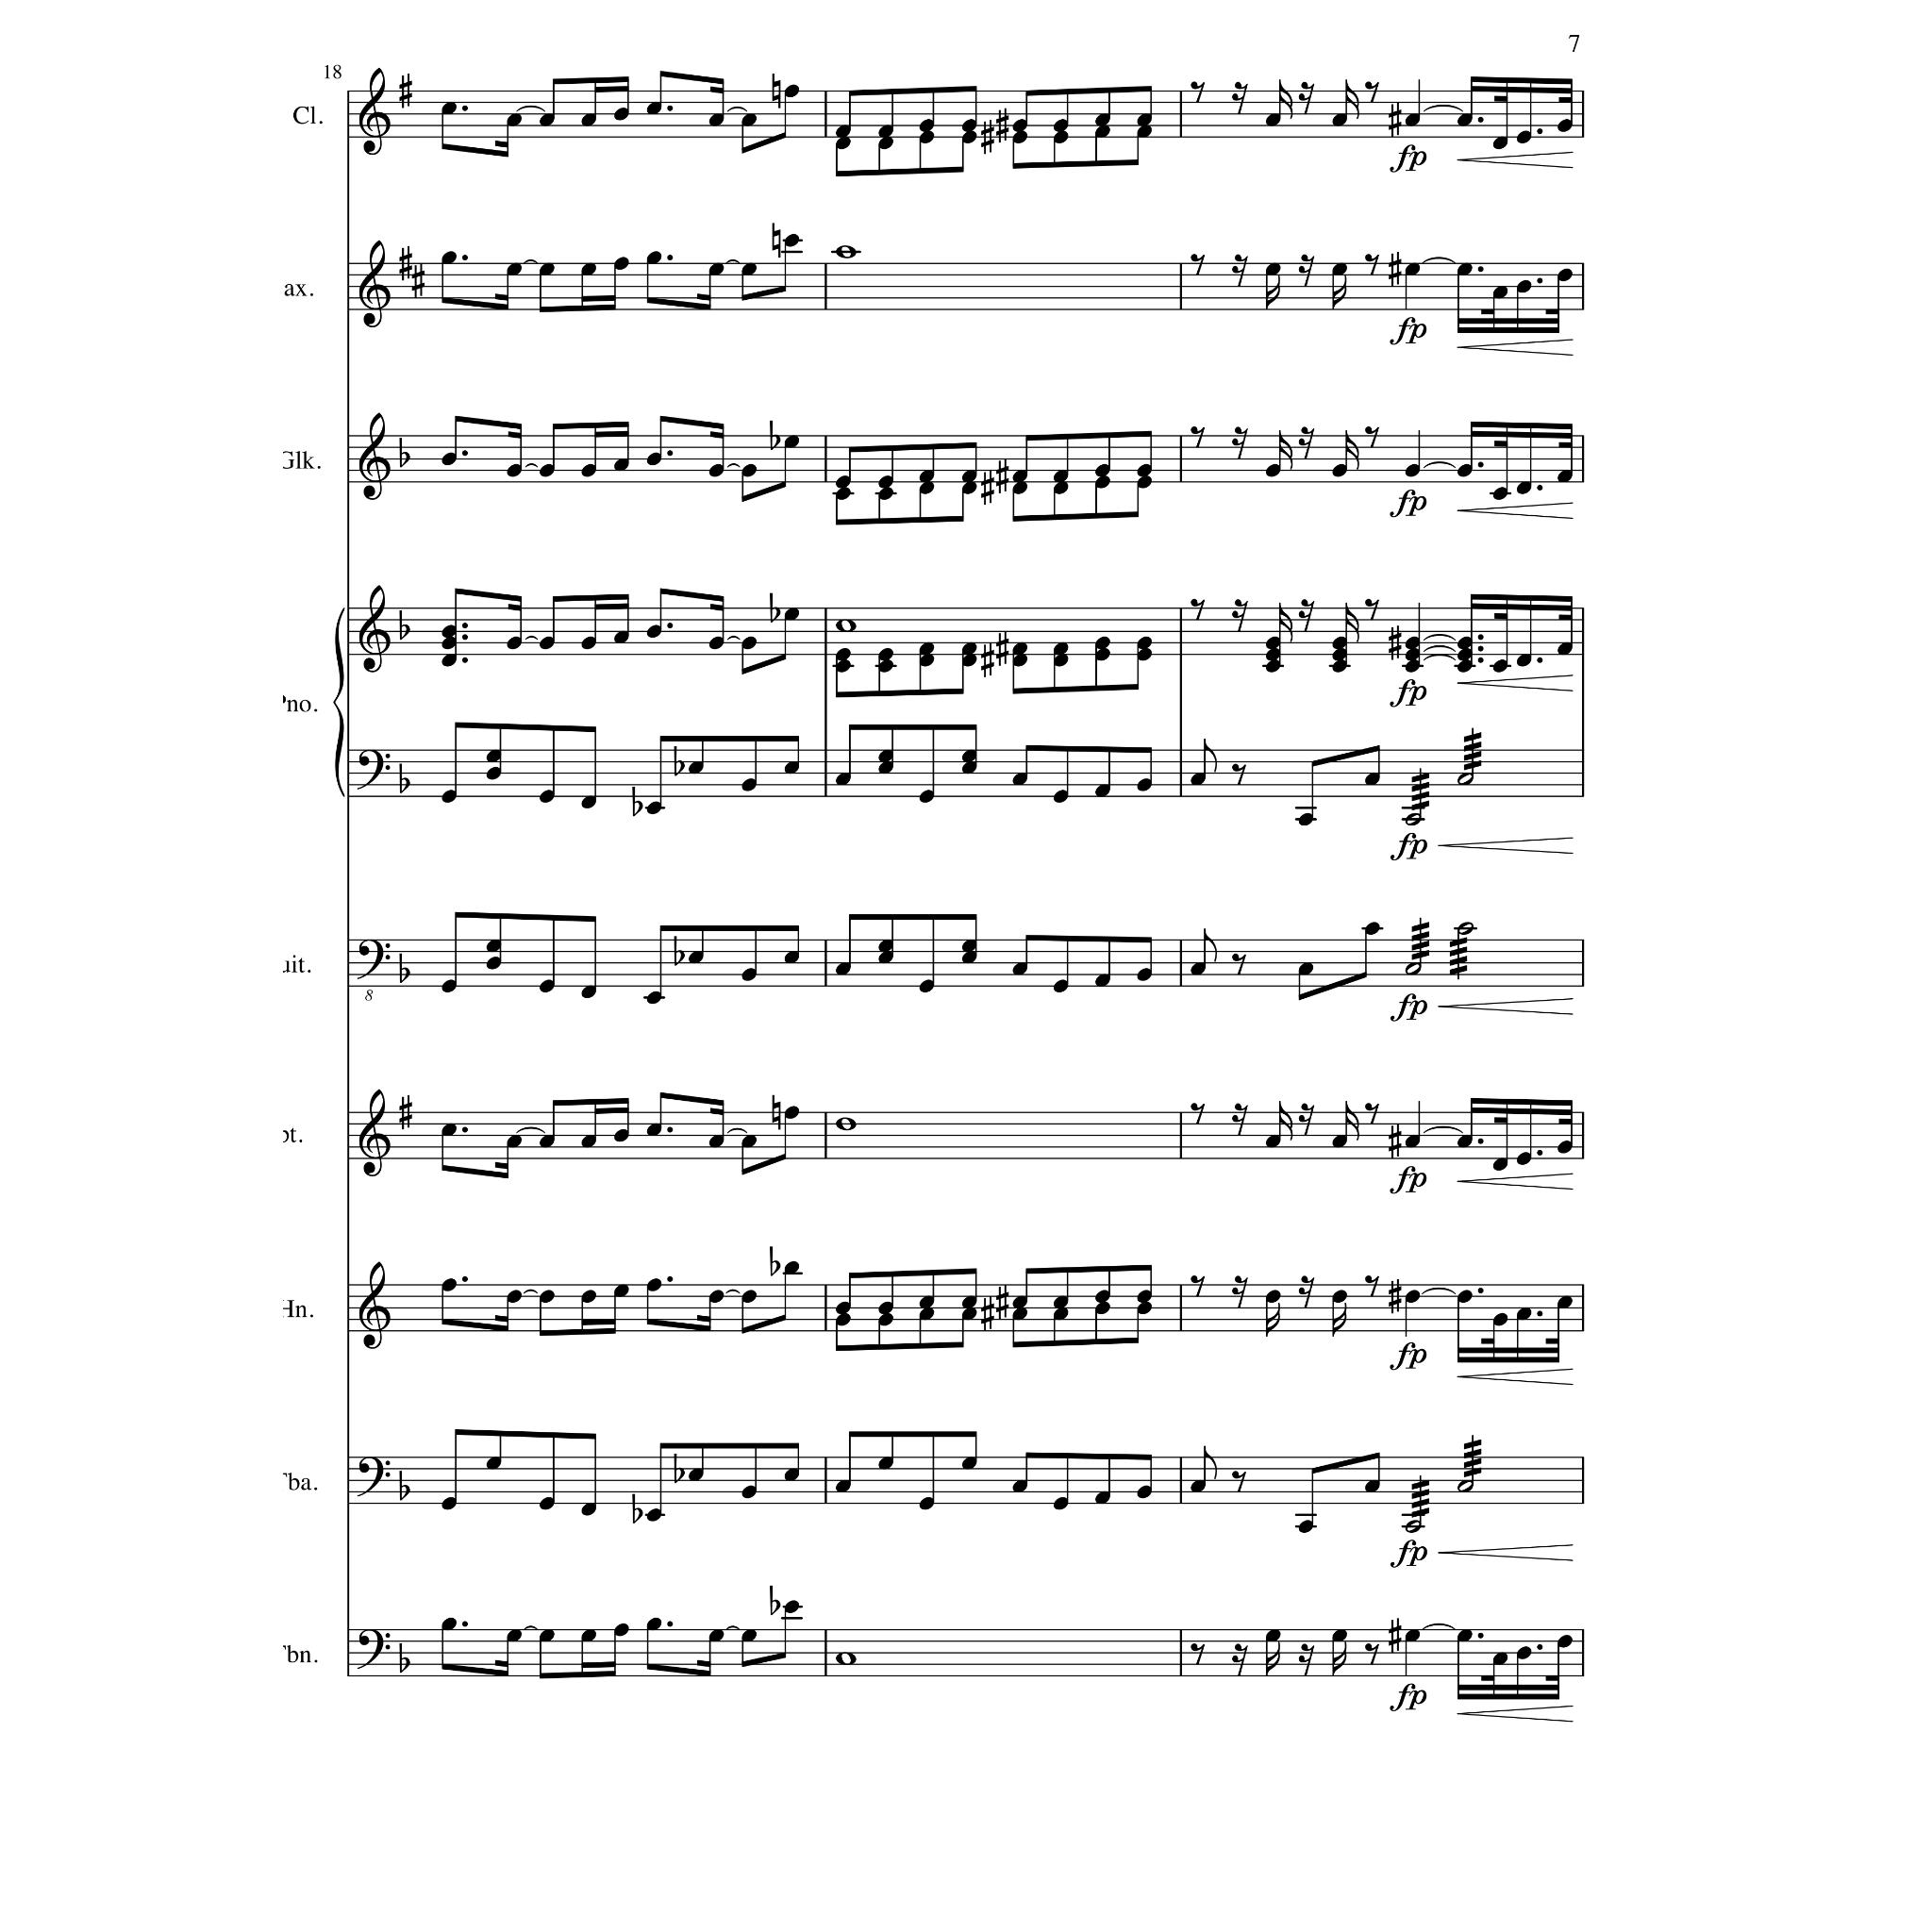brace: (333, 607, 345, 798)
fClef: (357, 1456, 391, 1497), (357, 1629, 391, 1670), (357, 939, 391, 980), (357, 750, 391, 791)
flag16thDown: (1332, 274, 1346, 310), (1267, 274, 1281, 310), (1267, 1302, 1281, 1338), (1332, 1302, 1346, 1338), (1267, 1642, 1281, 1675), (1332, 1642, 1346, 1675)
flag16thUp: (1346, 80, 1361, 120), (1346, 430, 1361, 471), (1346, 602, 1361, 642), (1346, 1102, 1361, 1141), (1279, 80, 1292, 120), (1279, 602, 1292, 642), (1279, 430, 1292, 471), (1279, 1102, 1292, 1141)
flag8thUp: (1203, 738, 1217, 773), (1203, 1445, 1217, 1481), (1203, 929, 1217, 962)
gClef: (359, 239, 391, 329), (359, 1261, 391, 1350), (359, 1088, 391, 1177), (359, 67, 391, 156), (359, 586, 391, 674), (359, 412, 391, 501)
noteheadBlack: (686, 761, 704, 775), (686, 950, 704, 964), (1332, 1134, 1348, 1148), (1332, 464, 1348, 478), (1332, 648, 1348, 662), (1332, 637, 1348, 651), (1265, 648, 1281, 662), (1265, 637, 1281, 651), (1265, 1134, 1281, 1148), (1265, 464, 1281, 478), (1093, 476, 1109, 490), (1093, 784, 1109, 798), (1093, 637, 1109, 651), (1093, 648, 1109, 662), (1093, 464, 1109, 478), (1053, 1497, 1069, 1511), (1053, 1295, 1069, 1309), (1053, 978, 1069, 993), (1053, 789, 1069, 803), (1053, 642, 1069, 656), (1053, 131, 1069, 145), (1053, 119, 1069, 133), (1136, 476, 1152, 490), (1136, 968, 1152, 982), (1136, 778, 1152, 793), (1136, 637, 1152, 651), (1136, 648, 1152, 662), (1136, 464, 1152, 478), (1557, 1635, 1573, 1649), (1557, 1295, 1573, 1309), (1557, 642, 1573, 656), (1557, 269, 1573, 283), (1557, 119, 1573, 133), (1516, 1645, 1532, 1660), (1516, 1152, 1532, 1166), (1516, 280, 1532, 294), (1516, 131, 1532, 145), (1405, 637, 1421, 651), (1405, 1134, 1421, 1148), (1405, 648, 1421, 662), (1405, 464, 1421, 478), (1491, 1651, 1507, 1665), (1491, 1313, 1507, 1327), (1491, 1157, 1507, 1171), (1491, 487, 1507, 501), (1491, 136, 1507, 150), (1458, 648, 1474, 662), (1458, 464, 1474, 478), (1458, 637, 1474, 651), (1458, 1134, 1474, 1148), (614, 458, 630, 472), (614, 1283, 630, 1297), (614, 1129, 630, 1143), (580, 1502, 596, 1516), (580, 1134, 596, 1148), (580, 985, 596, 1000), (580, 637, 596, 651), (580, 464, 596, 478), (708, 1134, 724, 1148), (708, 637, 724, 651), (708, 464, 724, 478), (646, 1617, 662, 1631), (646, 1277, 662, 1292), (646, 1123, 662, 1138), (646, 991, 662, 1005), (646, 801, 662, 816), (646, 625, 662, 639), (441, 1617, 456, 1631), (441, 1497, 456, 1511), (441, 1277, 456, 1292), (441, 1123, 456, 1138), (441, 978, 456, 993), (441, 789, 456, 803), (441, 625, 456, 639), (441, 637, 456, 651), (506, 1134, 522, 1148), (506, 637, 522, 651), (506, 464, 522, 478), (538, 1497, 554, 1511), (538, 1134, 554, 1148), (538, 978, 554, 993), (538, 789, 554, 803), (538, 637, 554, 651), (538, 464, 554, 478), (485, 1456, 501, 1470), (485, 939, 501, 954), (485, 955, 501, 970), (485, 750, 501, 764), (485, 766, 501, 780), (918, 1497, 934, 1511), (918, 1295, 934, 1309), (918, 978, 934, 993), (918, 789, 934, 803), (918, 642, 934, 656), (918, 131, 934, 145), (918, 119, 934, 133), (878, 1456, 893, 1470), (878, 1313, 893, 1327), (878, 939, 893, 954), (878, 950, 893, 964), (878, 750, 893, 764), (878, 761, 893, 775), (878, 648, 893, 662), (878, 487, 893, 501), (878, 476, 893, 490), (878, 136, 893, 150), (1012, 1295, 1028, 1309), (1012, 642, 1028, 656), (1012, 131, 1028, 145), (1012, 119, 1028, 133), (961, 1456, 977, 1470), (961, 1295, 977, 1309), (961, 939, 977, 954), (961, 950, 977, 964), (961, 750, 977, 764), (961, 761, 977, 775), (961, 642, 977, 656), (961, 131, 977, 145), (961, 119, 977, 133), (784, 435, 800, 449), (784, 607, 800, 621), (784, 761, 800, 775), (784, 950, 800, 964), (784, 1106, 800, 1120), (784, 1599, 800, 1614), (784, 234, 800, 248), (741, 968, 757, 982), (741, 464, 757, 478), (741, 637, 757, 651), (741, 778, 757, 793), (741, 1134, 757, 1148), (835, 487, 851, 501), (835, 476, 851, 490), (835, 136, 851, 150), (835, 1313, 851, 1327), (835, 648, 851, 662), (686, 1468, 704, 1481), (1332, 1290, 1348, 1302), (1332, 1629, 1348, 1642), (1297, 1520, 1313, 1532), (1332, 113, 1348, 126), (1332, 264, 1348, 276), (1332, 660, 1348, 672), (1265, 660, 1281, 672), (1265, 1290, 1281, 1302), (1265, 1629, 1281, 1642), (1265, 113, 1281, 126), (1265, 264, 1281, 276), (1297, 814, 1313, 826), (1297, 962, 1313, 975), (1093, 1491, 1109, 1504), (1093, 1302, 1109, 1315), (1093, 1290, 1109, 1302), (1093, 975, 1109, 987), (1093, 126, 1109, 138), (1093, 113, 1109, 126), (1053, 471, 1069, 483), (1053, 1307, 1069, 1320), (1053, 655, 1069, 667), (1053, 481, 1069, 494), (1191, 773, 1207, 786), (1191, 1481, 1207, 1493), (1191, 962, 1207, 975), (1136, 1486, 1152, 1499), (1136, 1302, 1152, 1315), (1136, 1290, 1152, 1302), (1136, 126, 1152, 138), (1136, 113, 1152, 126), (1557, 1141, 1573, 1154), (1557, 471, 1573, 483), (1516, 1307, 1532, 1320), (1516, 655, 1532, 667), (1516, 481, 1532, 494), (1405, 1290, 1421, 1302), (1405, 1629, 1421, 1642), (1405, 660, 1421, 672), (1405, 264, 1421, 276), (1405, 113, 1421, 126), (1364, 773, 1380, 786), (1364, 922, 1380, 934), (1364, 1481, 1380, 1493), (1491, 660, 1507, 672), (1491, 287, 1507, 299), (1458, 113, 1474, 126), (1458, 264, 1474, 276), (1458, 660, 1474, 672), (1458, 1290, 1474, 1302), (1458, 1629, 1474, 1642), (614, 108, 630, 120), (614, 258, 630, 271), (614, 632, 630, 644), (614, 1624, 630, 1637), (580, 1629, 596, 1642), (580, 1290, 596, 1302), (580, 796, 596, 809), (580, 264, 596, 276), (580, 113, 596, 126), (708, 1629, 724, 1642), (708, 1290, 724, 1302), (708, 264, 724, 276), (708, 113, 724, 126), (646, 1509, 662, 1522), (646, 453, 662, 465), (646, 251, 662, 264), (646, 103, 662, 115), (441, 103, 456, 115), (441, 251, 456, 264), (441, 453, 456, 465), (441, 655, 456, 667), (506, 1629, 522, 1642), (506, 1290, 522, 1302), (538, 1629, 554, 1642), (538, 1290, 554, 1302), (538, 264, 554, 276), (538, 113, 554, 126), (506, 264, 522, 276), (506, 113, 522, 126), (918, 1307, 934, 1320), (918, 655, 934, 667), (918, 481, 934, 494), (918, 471, 934, 483), (878, 1302, 893, 1315), (878, 660, 893, 672), (878, 126, 893, 138), (1012, 1481, 1028, 1493), (1012, 1307, 1028, 1320), (1012, 962, 1028, 975), (1012, 773, 1028, 786), (1012, 655, 1028, 667), (1012, 481, 1028, 494), (1012, 471, 1028, 483), (961, 1307, 977, 1320), (961, 655, 977, 667), (961, 481, 977, 494), (961, 471, 977, 483), (784, 1261, 800, 1274), (784, 1468, 800, 1481), (784, 85, 800, 97), (741, 113, 757, 126), (741, 264, 757, 276), (741, 1290, 757, 1302), (741, 1486, 757, 1499), (741, 1629, 757, 1642), (835, 126, 851, 138), (835, 1481, 851, 1493), (835, 1302, 851, 1315), (835, 773, 851, 786), (835, 660, 851, 672), (835, 962, 851, 975)
noteheadHalf: (1405, 814, 1422, 826), (1405, 962, 1422, 975), (1405, 1520, 1422, 1532), (1456, 773, 1474, 786), (1456, 922, 1474, 934), (1456, 1481, 1474, 1493)
noteheadWhole: (835, 246, 856, 260), (835, 1651, 856, 1665), (835, 1118, 856, 1132), (835, 619, 856, 632)
rest16th: (1231, 600, 1247, 633), (1231, 426, 1247, 460), (1231, 1644, 1247, 1677), (1231, 1276, 1247, 1309), (1299, 1644, 1315, 1677), (1299, 426, 1315, 460), (1299, 600, 1315, 633), (1299, 1276, 1315, 1309), (1231, 1104, 1247, 1136), (1231, 255, 1247, 287), (1231, 83, 1247, 115), (1299, 83, 1315, 115), (1299, 255, 1315, 287), (1299, 1104, 1315, 1136)
rest8th: (1189, 1644, 1205, 1667), (1189, 1276, 1205, 1299), (1189, 1102, 1205, 1125), (1189, 426, 1205, 449), (1189, 253, 1205, 276), (1189, 81, 1205, 104), (1364, 81, 1380, 104), (1364, 253, 1380, 276), (1364, 426, 1380, 449), (1364, 1102, 1380, 1125), (1364, 1276, 1380, 1299), (1364, 1644, 1380, 1667), (1189, 600, 1205, 621), (1364, 600, 1380, 621), (1231, 764, 1246, 787), (1231, 1470, 1246, 1493), (1231, 954, 1246, 975)
